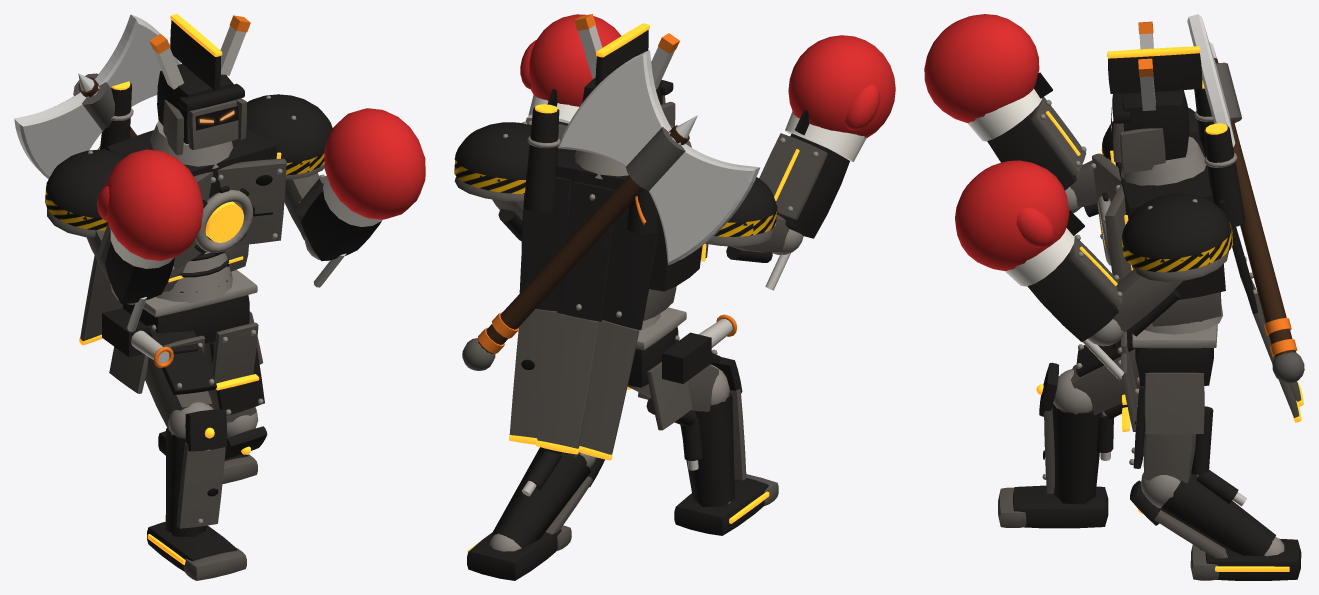
Rendered from warden.glb.
The picture shows the model from 3 angles, left to right: view 1: azimuth 30°, elevation 25°; view 2: azimuth 150°, elevation 25°; view 3: azimuth 270°, elevation 25°; orthographic projection. The views are drawn at different scales.
Visible parts, largest first — view 1: IRON WARDEN, object 162, object 138, object 143, object 173, object 63, object 119, object 175, object 22, object 153, object 12, object 50 (+33 smaller); view 2: object 138, object 173, object 175, object 104, object 99, object 166, object 162, object 103, object 98, object 40, IRON WARDEN, object 109 (+30 smaller); view 3: object 138, IRON WARDEN, object 162, object 143, object 40, object 18, object 153, object 166, object 25, object 50, object 82, object 88 (+43 smaller).
Part boxes in pixels (x1,y1,x2,y2): IRON WARDEN: [109, 252, 263, 393]; object 162: [324, 108, 425, 219]; object 138: [105, 149, 203, 260]; object 143: [246, 94, 332, 164]; object 173: [14, 92, 102, 178]; object 63: [217, 158, 286, 245]; object 119: [46, 149, 127, 219]; object 175: [95, 14, 180, 106]; object 22: [176, 442, 225, 528]; object 153: [301, 191, 381, 261]; object 12: [147, 325, 216, 394]; object 50: [106, 129, 276, 255]; object 138: [788, 35, 895, 138]; object 173: [648, 144, 760, 265]; object 175: [557, 50, 671, 166]; object 104: [537, 314, 599, 448]; object 99: [579, 320, 639, 454]; object 166: [478, 125, 689, 354]; object 162: [529, 14, 621, 106]; object 103: [557, 181, 614, 321]; object 98: [602, 206, 660, 329]; object 40: [492, 447, 590, 548]; IRON WARDEN: [554, 307, 692, 430]; object 109: [509, 309, 562, 438]; object 138: [924, 14, 1039, 122]; IRON WARDEN: [1121, 304, 1222, 434]; object 162: [955, 160, 1069, 270]; object 143: [1122, 193, 1231, 262]; object 40: [1159, 473, 1275, 555]; object 18: [1052, 403, 1102, 504]; object 153: [1027, 253, 1118, 341]; object 166: [1214, 58, 1295, 357]; object 25: [1013, 485, 1108, 528]; object 50: [1117, 132, 1225, 299]; object 82: [1122, 90, 1189, 160]; object 88: [1108, 53, 1202, 93].
Size of what is drawn, in the model's own units: 1.73 by 2.52 by 1.71.
16 materials, 2 textured.
